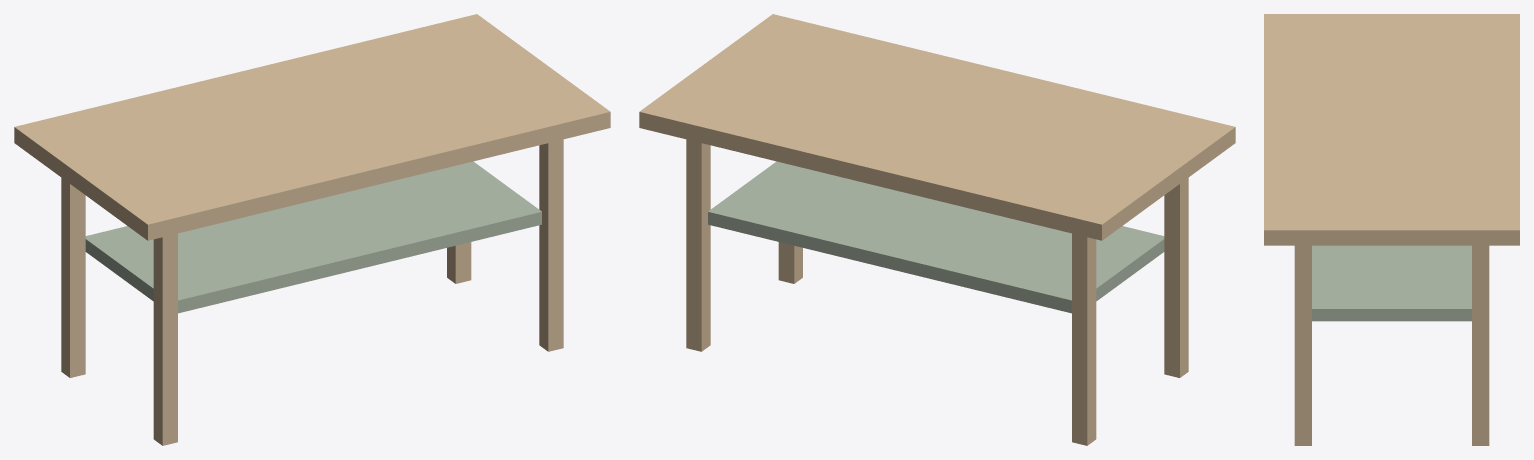
File: craft-table.glb
3 views of the same model, side by side, from view 1: azimuth 30°, elevation 25°; view 2: azimuth 150°, elevation 25°; view 3: azimuth 270°, elevation 25° (orthographic). The views are drawn at different scales.
Visible parts, largest first — view 1: root; view 2: root; view 3: root.
Boxes of the visible parts, box(x1,y1,x2,y2) form: root: box(14, 14, 610, 445); root: box(639, 14, 1235, 445); root: box(1264, 14, 1519, 445).
Bounding box in the file's own units: 1.5 × 0.745 × 0.75.
